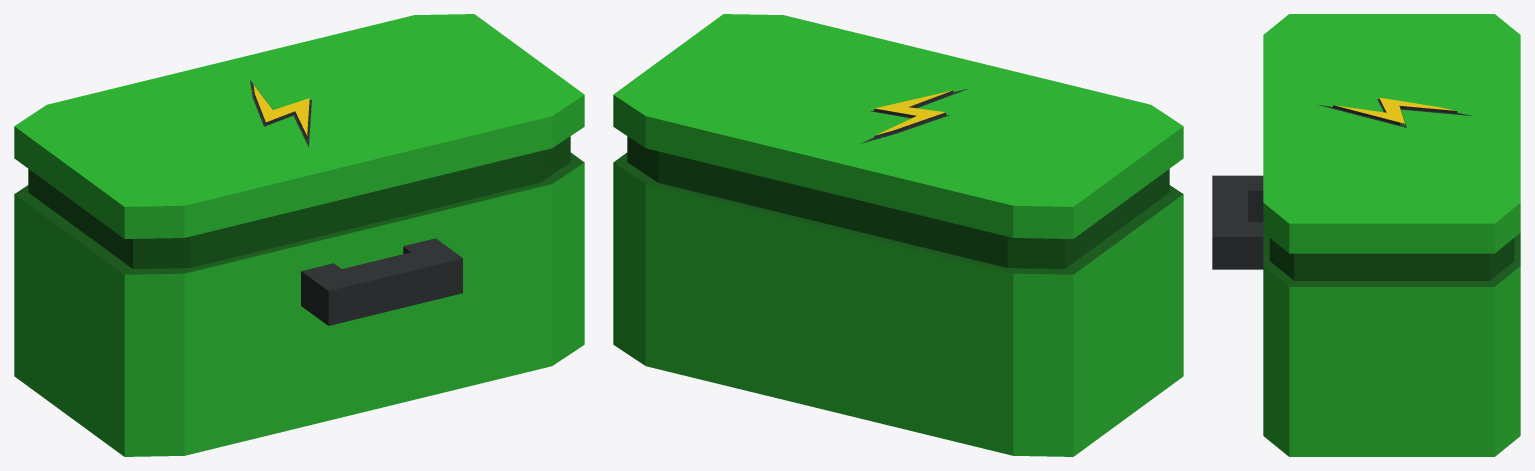
The model's file is SpeedPowerUP.fbx.
3 views of the same model, side by side, from view 1: azimuth 30°, elevation 25°; view 2: azimuth 150°, elevation 25°; view 3: azimuth 270°, elevation 25° (orthographic). The views are drawn at different scales.
Visible parts, largest first — view 1: SpeedPowerUP; view 2: SpeedPowerUP; view 3: SpeedPowerUP.
Boxes of the visible parts, box(x1,y1,x2,y2) form: SpeedPowerUP: box(14, 14, 584, 456); SpeedPowerUP: box(613, 14, 1183, 456); SpeedPowerUP: box(1212, 14, 1520, 456).
Size of the model in its own units: 0.6162 by 0.3238 by 0.3835.
